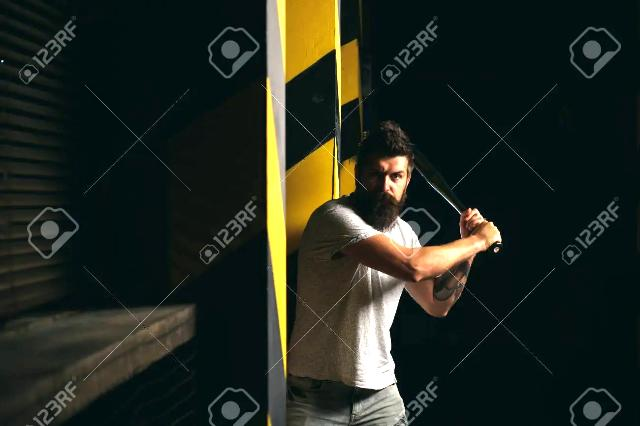baseball bat: (411, 148, 504, 256)
